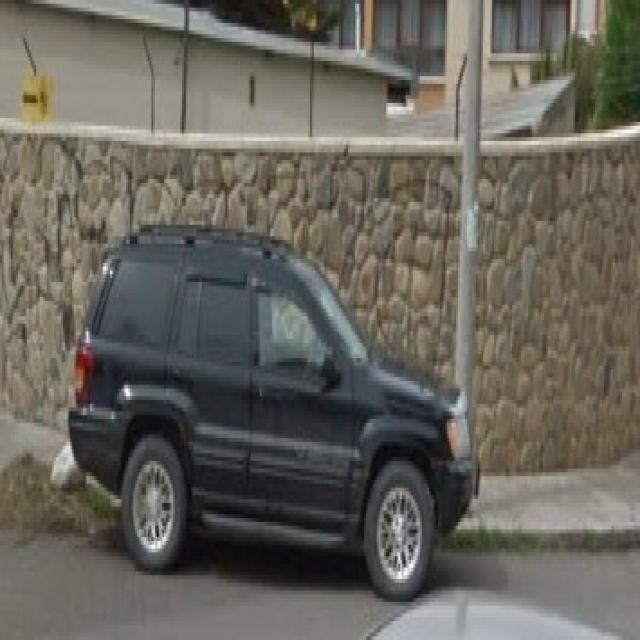car: (67, 224, 481, 601)
